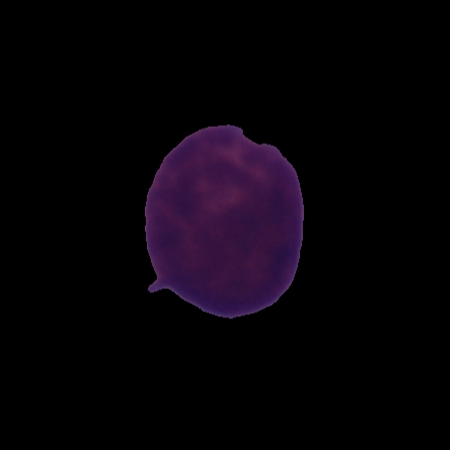ALL: (139, 120, 308, 321)
